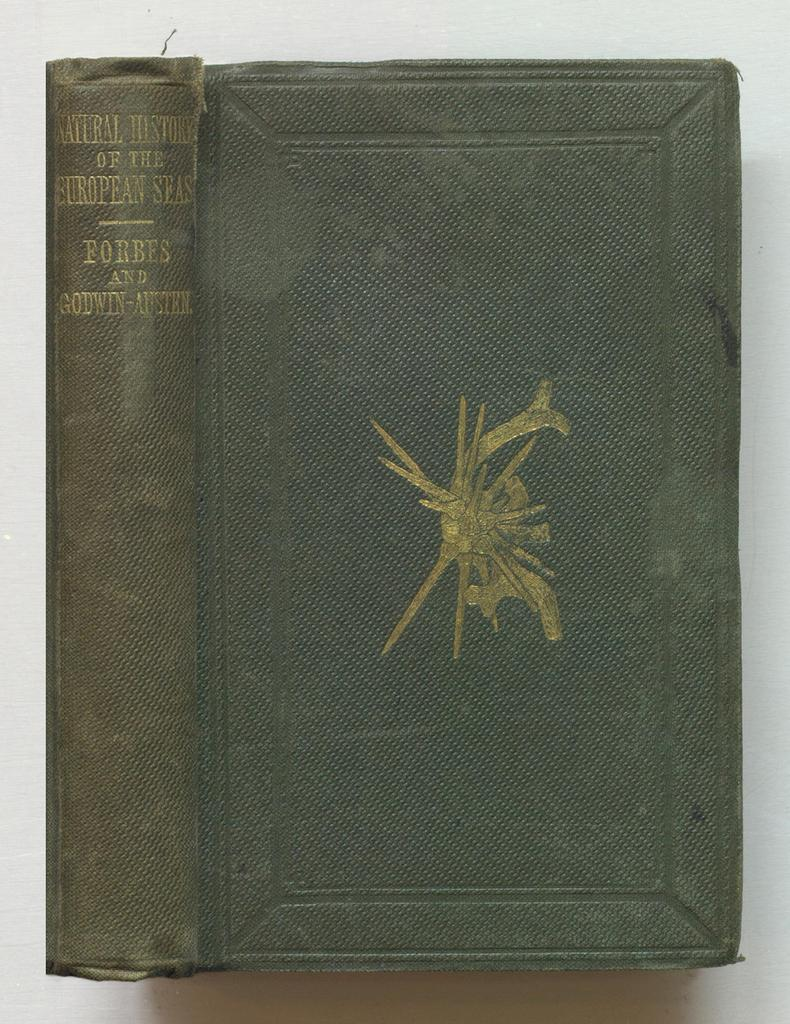book: (208, 58, 749, 973), (46, 60, 214, 979)
